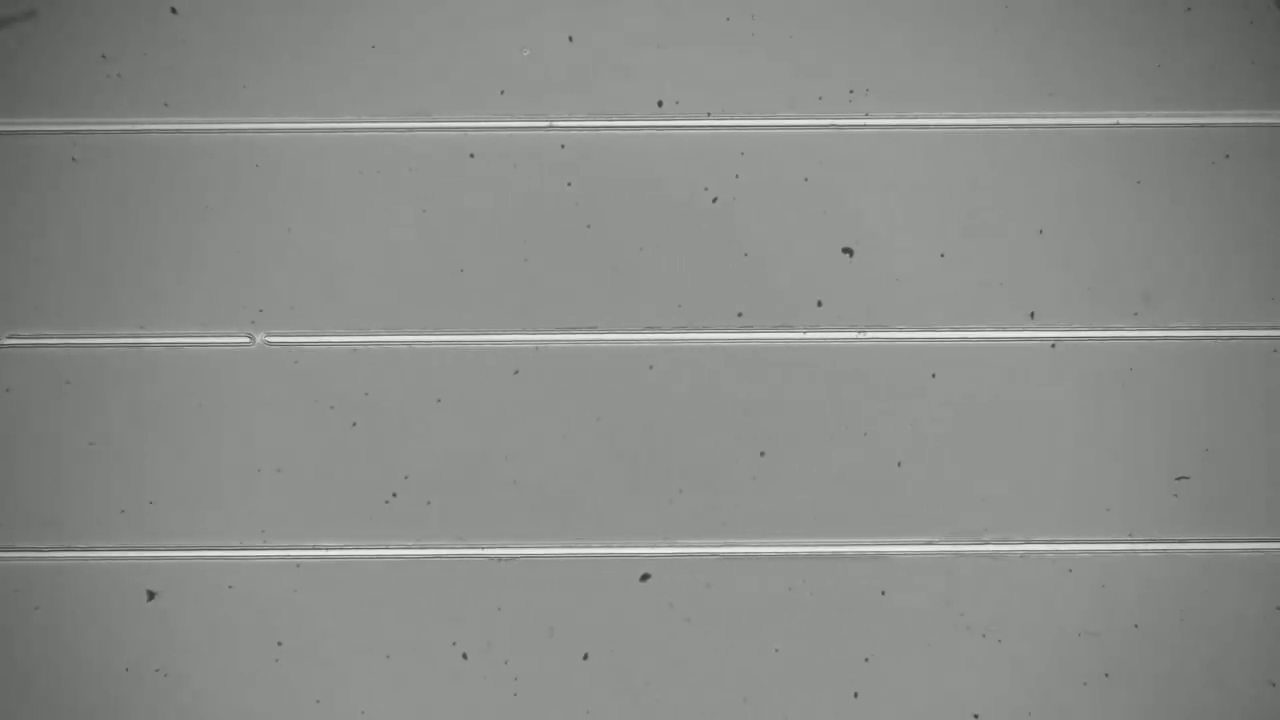open: (239, 316, 286, 360)
